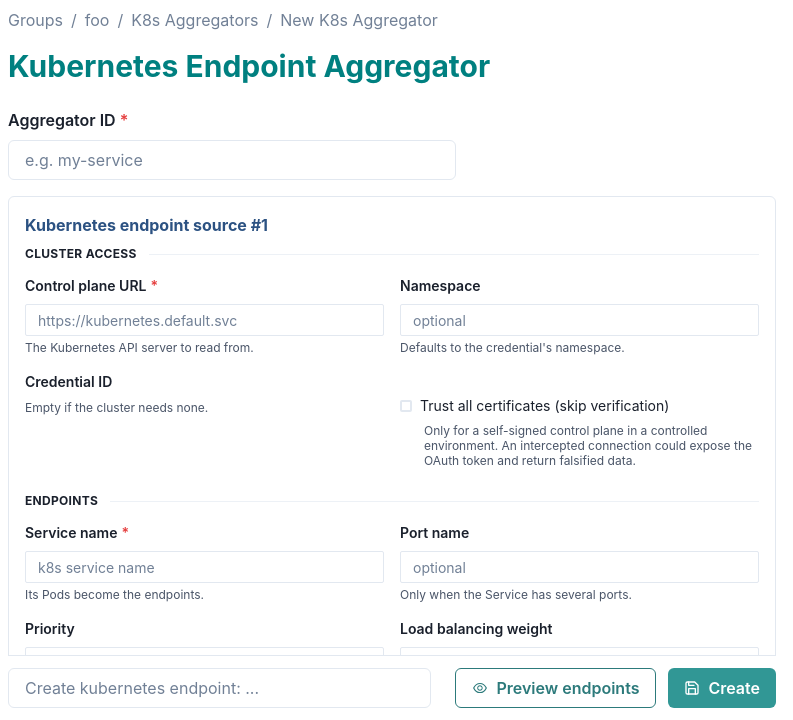
Scenario: K8sAggregatorEditor – aggregator ID pattern validation › new aggregator › rejects a slash ID and shows a validation error
Type "foo/bar" into the field with placeholder "e.g. my-service" at (232,160), box x1=8 y1=140 x2=456 y2=180
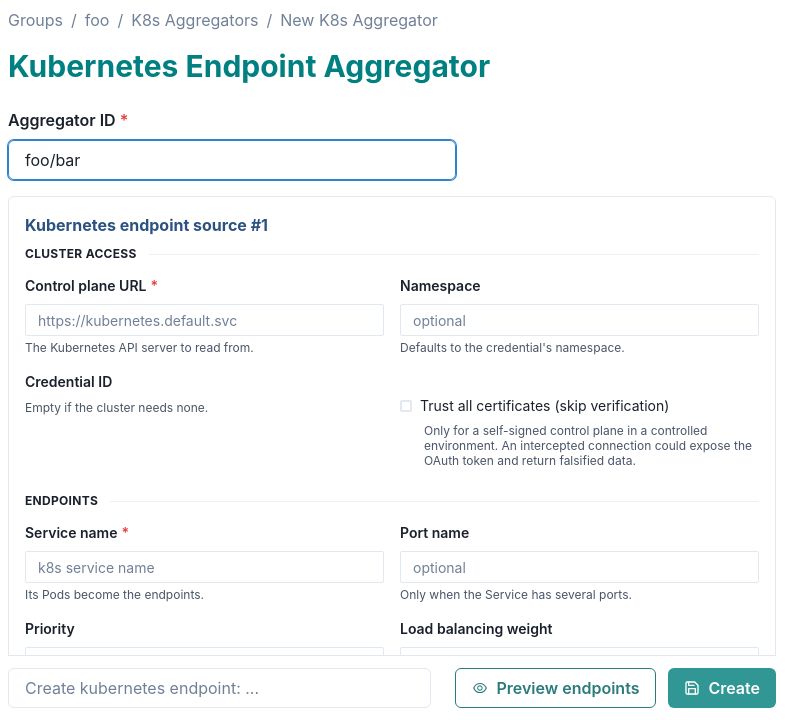
Click the button "Create" at (722,688), box x1=668 y1=668 x2=776 y2=708
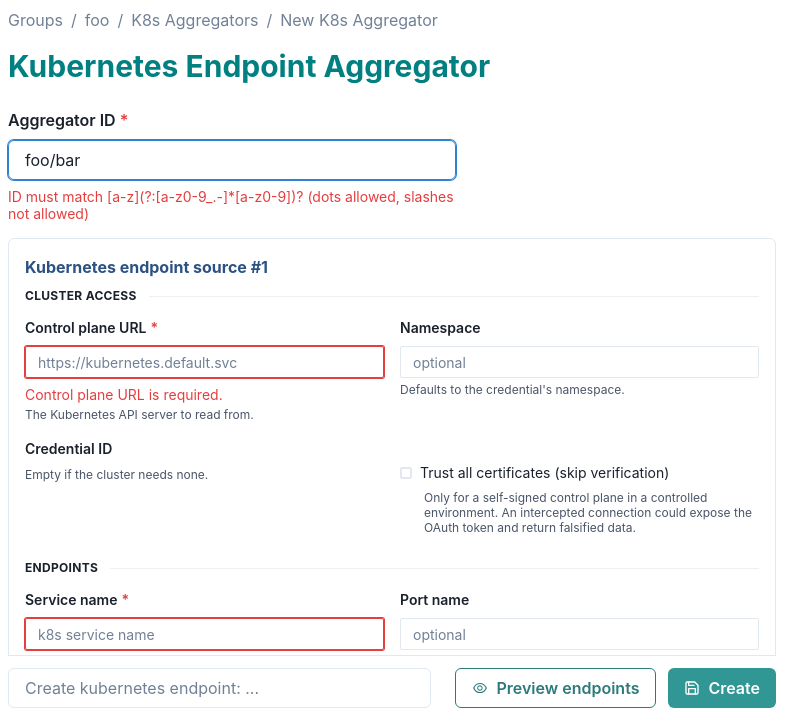
Expected: the text "dots allowed, slashes not allowed" is shown, x1=8 y1=188 x2=454 y2=222
